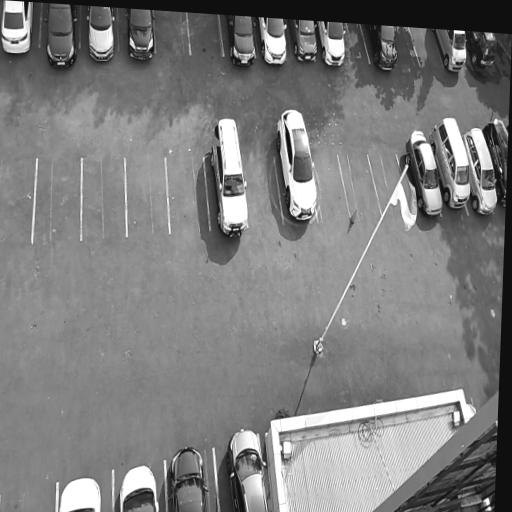Car: (272, 102, 321, 224), (208, 116, 252, 246), (223, 422, 272, 512), (427, 114, 471, 212), (402, 129, 445, 221), (166, 434, 212, 512), (462, 123, 500, 216), (44, 3, 81, 73), (482, 114, 508, 209), (116, 460, 161, 512), (0, 0, 39, 54), (85, 6, 118, 66), (364, 24, 401, 72), (226, 15, 260, 67), (124, 8, 156, 62), (257, 17, 290, 67), (57, 477, 103, 512), (433, 29, 467, 74), (317, 21, 347, 69), (290, 19, 321, 65), (465, 31, 498, 74)
Space Available: (34, 157, 80, 242), (83, 158, 125, 240), (166, 156, 210, 233), (126, 157, 168, 237), (0, 154, 36, 244), (243, 153, 283, 223), (338, 153, 380, 216), (312, 151, 349, 216), (368, 153, 402, 215), (187, 12, 224, 57), (0, 483, 55, 512), (155, 10, 189, 54), (408, 27, 444, 67), (343, 23, 370, 63), (395, 26, 419, 66)
